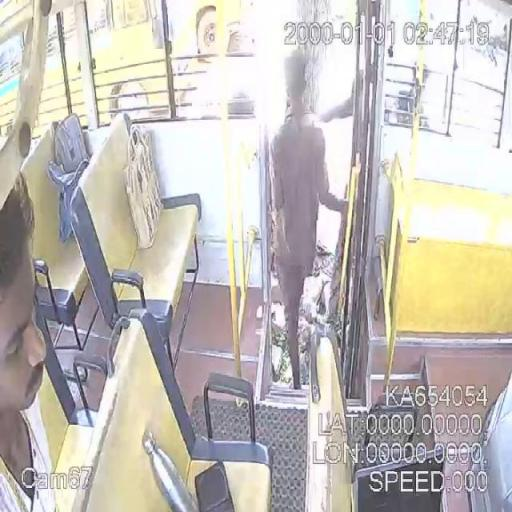persona: (268, 50, 352, 390), (0, 169, 58, 511)
